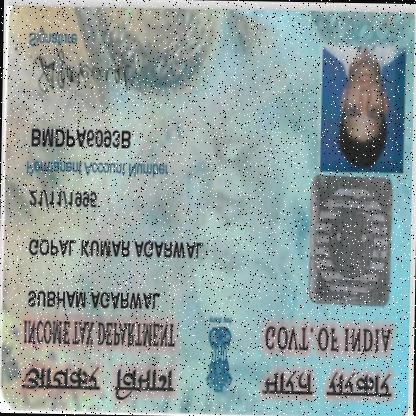pan_card: (0, 2, 415, 415)
